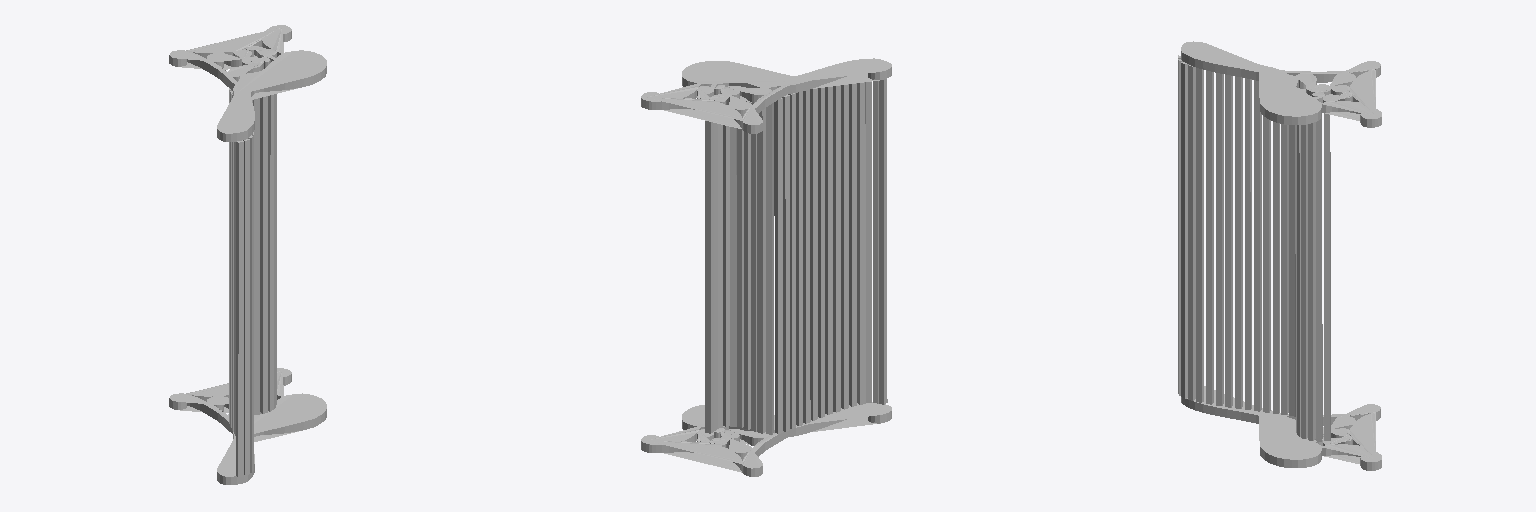
The model's file is park_bench_Brian.obj.
3 renders of one model, left to right at view 1: azimuth 30°, elevation 25°; view 2: azimuth 150°, elevation 25°; view 3: azimuth 270°, elevation 25°, orthographic.
Visible parts, largest first — view 1: Plane; view 2: Plane; view 3: Plane.
Part boxes in pixels (x1,y1,x2,y2): Plane: (169, 25, 326, 484); Plane: (641, 58, 891, 476); Plane: (1178, 41, 1381, 470).
Size of the model in its own units: 132 by 280 by 147.